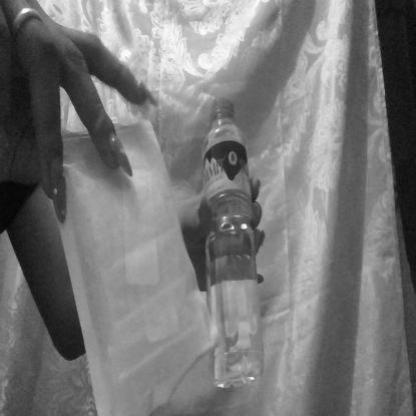Plastic Bottle: (194, 68, 282, 405)
